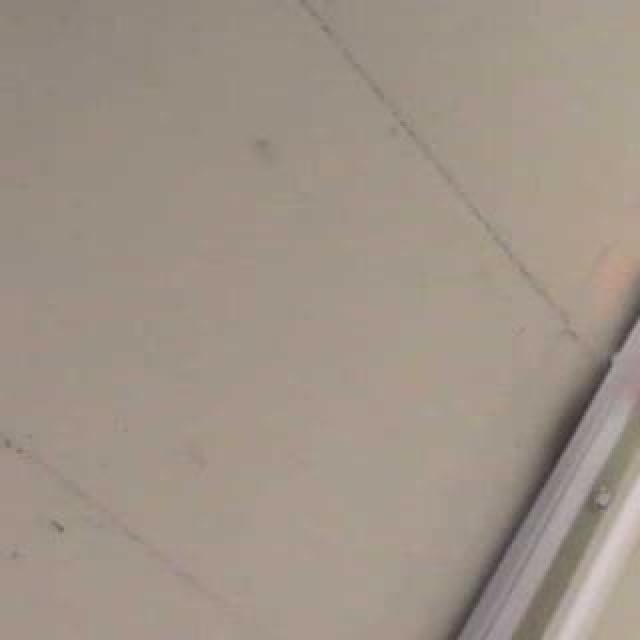fluorescent tube: (140, 250, 640, 640)
